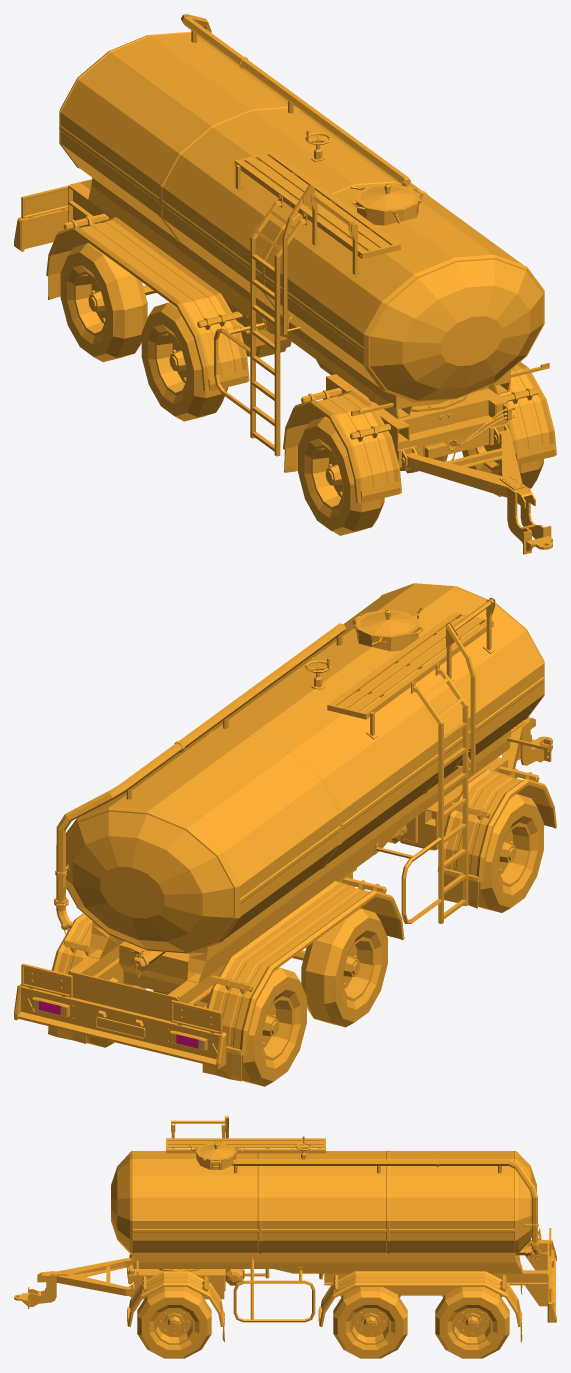
The model's file is SM_Liquid_Tank.fbx.
3 renders of one model, top to bottom at view 1: azimuth 30°, elevation 25°; view 2: azimuth 150°, elevation 25°; view 3: azimuth 270°, elevation 25°, orthographic. The views are drawn at different scales.
Visible parts, largest first — view 1: liquid-tank-base-farm, liquid-tank-front-farm, liquid-tank-wheels-ba-farm, liquid-tank-wheels-m-farm, liquid-tank-wheel-fr-farm, liquid-tank-connector-farm, liquid-tank-wheel-fl-farm; view 2: liquid-tank-base-farm, liquid-tank-front-farm, liquid-tank-wheels-m-farm, liquid-tank-wheels-ba-farm, liquid-tank-wheel-fr-farm, liquid-tank-connector-farm; view 3: liquid-tank-base-farm, liquid-tank-wheels-m-farm, liquid-tank-wheels-ba-farm, liquid-tank-wheel-fl-farm, liquid-tank-front-farm, liquid-tank-connector-farm.
Part boxes in pixels (x1,y1,x2,y2): liquid-tank-base-farm: [14, 14, 549, 456]; liquid-tank-front-farm: [283, 362, 556, 503]; liquid-tank-wheels-ba-farm: [60, 243, 156, 361]; liquid-tank-wheels-m-farm: [141, 302, 335, 421]; liquid-tank-wheel-fr-farm: [298, 416, 384, 535]; liquid-tank-connector-farm: [406, 430, 552, 554]; liquid-tank-wheel-fl-farm: [462, 443, 543, 496]; liquid-tank-base-farm: [14, 583, 549, 1081]; liquid-tank-front-farm: [388, 757, 556, 908]; liquid-tank-wheels-m-farm: [292, 908, 387, 1027]; liquid-tank-wheels-ba-farm: [86, 964, 306, 1086]; liquid-tank-wheel-fr-farm: [478, 794, 543, 912]; liquid-tank-connector-farm: [502, 717, 552, 776]; liquid-tank-base-farm: [111, 1115, 556, 1342]; liquid-tank-wheels-m-farm: [333, 1287, 407, 1358]; liquid-tank-wheels-ba-farm: [435, 1287, 509, 1358]; liquid-tank-wheel-fl-farm: [137, 1287, 211, 1358]; liquid-tank-front-farm: [127, 1254, 244, 1342]; liquid-tank-connector-farm: [14, 1258, 131, 1308].
Bounding box in the file's own units: 2.18 × 3.12 × 7.89.
